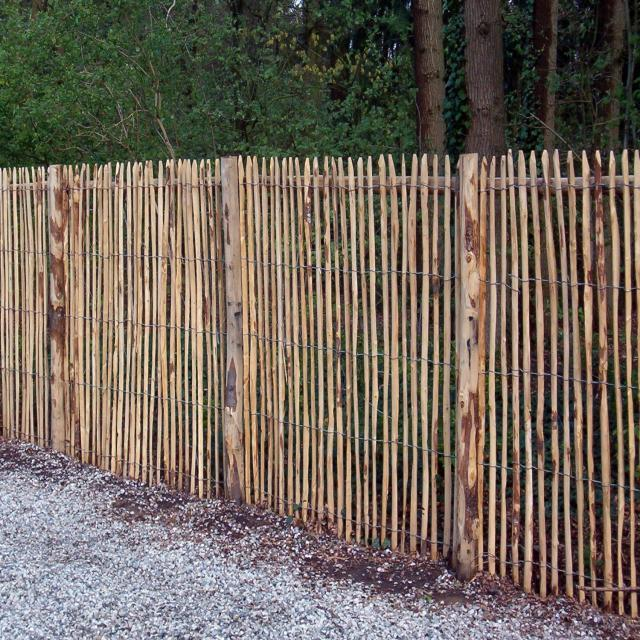fence line: (1, 155, 640, 606)
